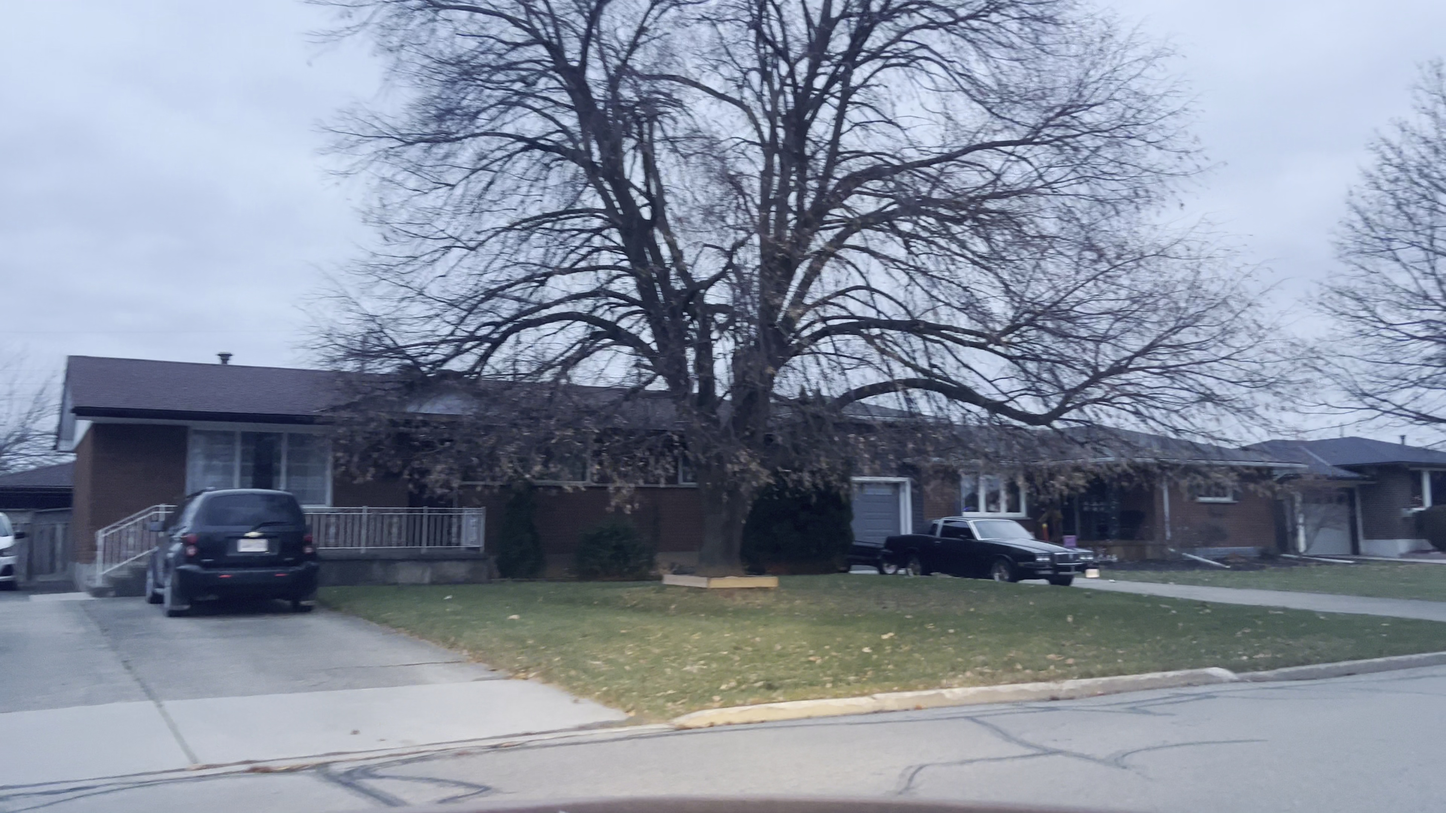cracks: (963, 708, 1140, 773), (287, 768, 480, 809)
